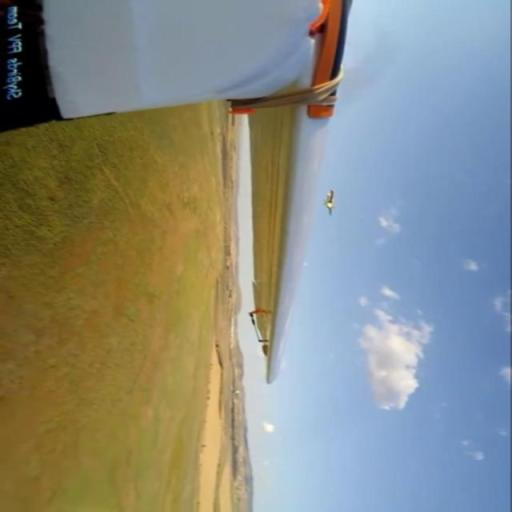uav: (324, 190, 340, 216)
